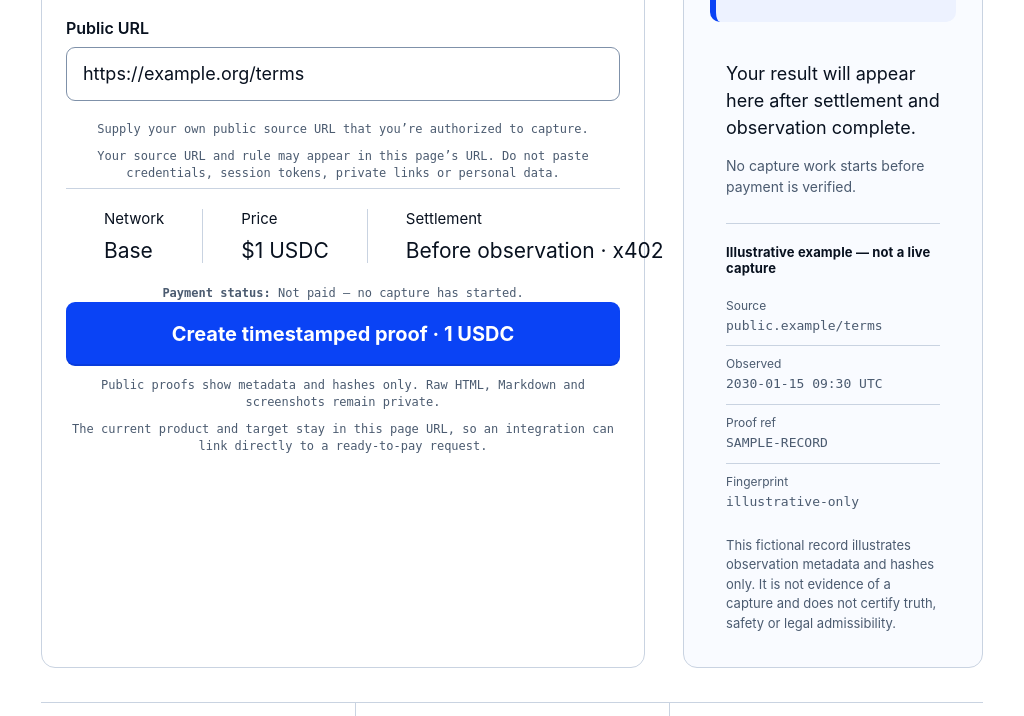
Base app incomplete paid requests › preserves payment uncertainty after a transport failure
(page scrolled)
Click the button "Create timestamped proof · 1 USDC".
click(343, 334)  # box [66,302,620,366]
(page scrolled)
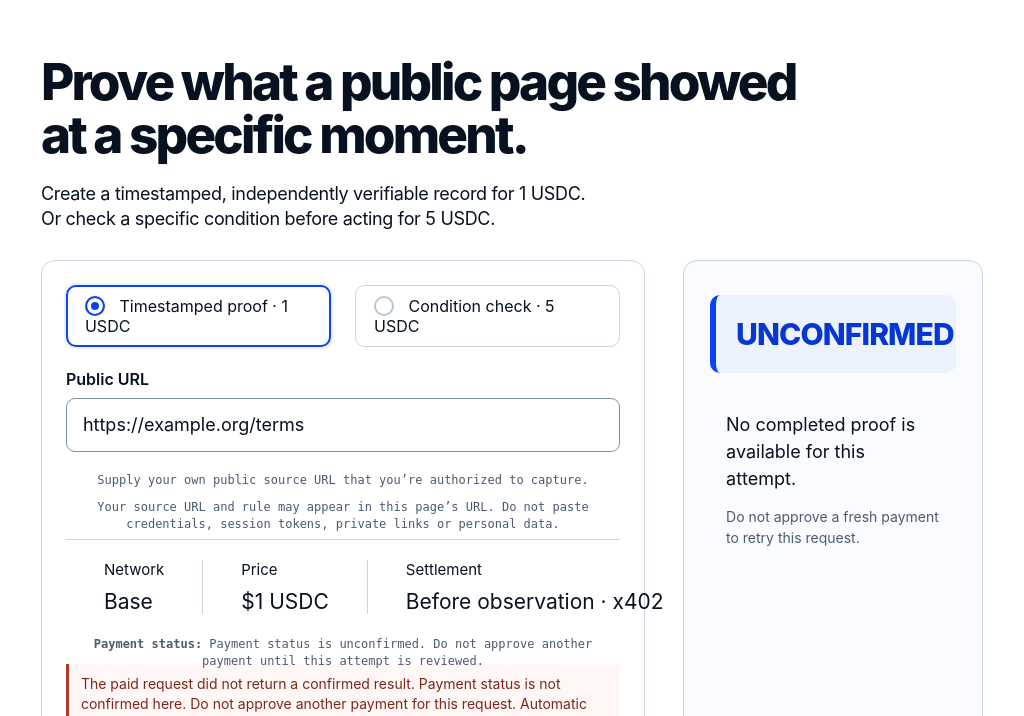
Check: the element with class "result-status" no longer shows "READY"
Check: the text with class "result-status" reads "UNCONFIRMED", box [736,316,954,352]
Check: the text "Do not approve another payment" is shown, box [202,637,592,668]
